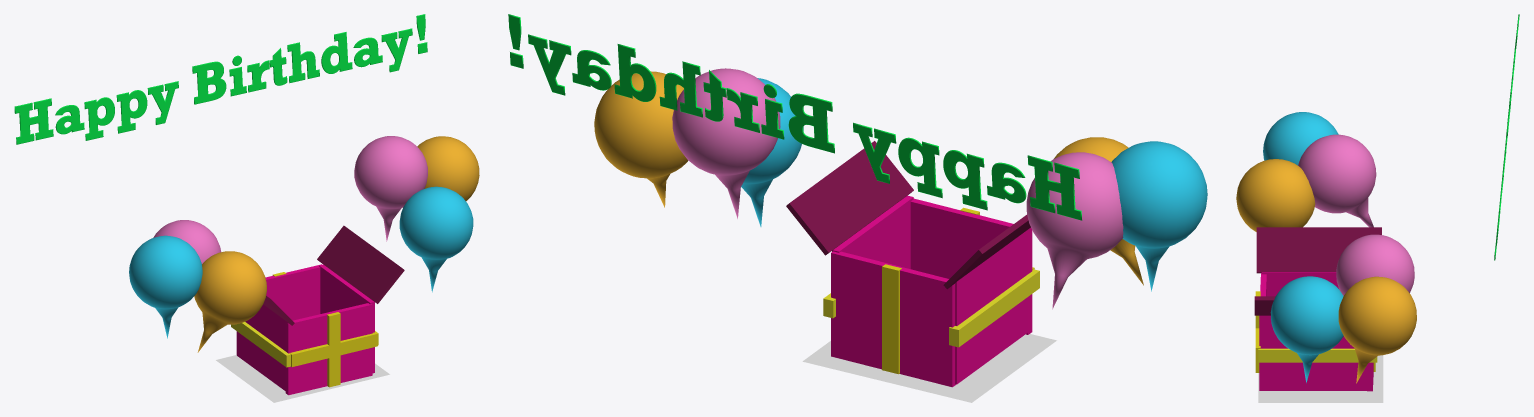
The model's file is help.gltf.
The picture shows the model from 3 angles, left to right: view 1: azimuth 30°, elevation 25°; view 2: azimuth 150°, elevation 25°; view 3: azimuth 270°, elevation 25°; orthographic projection. The views are drawn at different scales.
Visible parts, largest first — view 1: Cube, birthday, blu2, blu1, yell1, pur2, yell2, Plane.001, pur1; view 2: Cube, birthday, blu1, pur1, pur2, yell2, Plane.001, blu2, yell1; view 3: Cube, yell2, pur1, blu2, yell1, pur2, blu1, Plane.001, birthday.
Part boxes in pixels (x1=…): Cube: x1=231, y1=225, x2=404, y2=395; birthday: x1=14, y1=14, x2=427, y2=144; blu2: x1=399, y1=186, x2=473, y2=292; blu1: x1=129, y1=235, x2=202, y2=338; yell1: x1=194, y1=251, x2=266, y2=352; pur2: x1=354, y1=136, x2=427, y2=241; yell2: x1=417, y1=136, x2=479, y2=201; Plane.001: x1=216, y1=355, x2=389, y2=402; pur1: x1=153, y1=220, x2=221, y2=263; Cube: x1=786, y1=141, x2=1039, y2=387; birthday: x1=508, y1=14, x2=1082, y2=220; blu1: x1=1111, y1=141, x2=1207, y2=291; pur1: x1=1026, y1=152, x2=1123, y2=309; pur2: x1=672, y1=68, x2=780, y2=218; yell2: x1=594, y1=71, x2=688, y2=207; Plane.001: x1=802, y1=334, x2=1056, y2=402; blu2: x1=741, y1=78, x2=803, y2=226; yell1: x1=1054, y1=137, x2=1143, y2=285; Cube: x1=1254, y1=227, x2=1381, y2=391; yell2: x1=1338, y1=276, x2=1416, y2=383; pur1: x1=1298, y1=134, x2=1376, y2=227; blu2: x1=1270, y1=276, x2=1343, y2=382; yell1: x1=1236, y1=159, x2=1315, y2=231; pur2: x1=1336, y1=234, x2=1414, y2=295; blu1: x1=1263, y1=112, x2=1338, y2=165; Plane.001: x1=1258, y1=355, x2=1383, y2=402; birthday: x1=1494, y1=14, x2=1519, y2=260.
Size of the model in its own units: 7.92 by 4.56 by 4.53.
